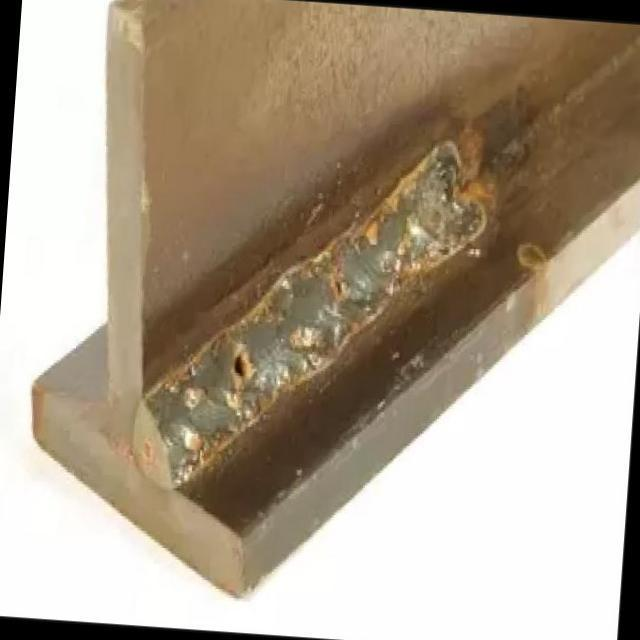defect: (230, 346, 250, 380), (329, 269, 346, 298)
